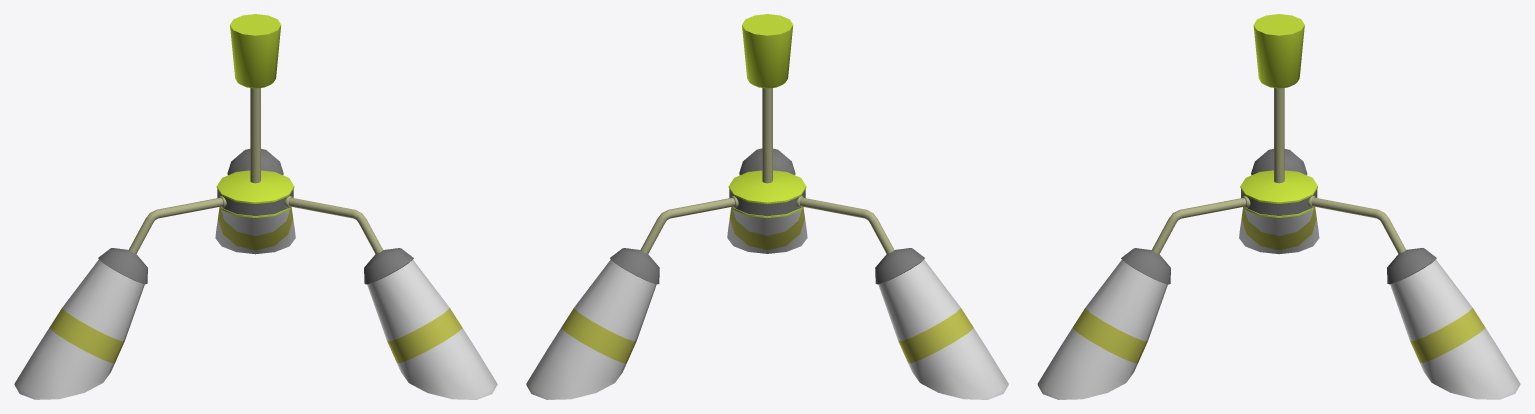
File: Chandelier.fbx
3 renders of one model, left to right at view 1: azimuth 30°, elevation 25°; view 2: azimuth 150°, elevation 25°; view 3: azimuth 270°, elevation 25°, orthographic.
Visible parts, largest first — view 1: Cylinder.005; view 2: Cylinder.005; view 3: Cylinder.005.
Boxes of the visible parts, bbox=[...] form: Cylinder.005: bbox=[14, 14, 497, 399]; Cylinder.005: bbox=[526, 14, 1008, 399]; Cylinder.005: bbox=[1037, 14, 1520, 399].
Size of the model in its own units: 62.5 by 50.27 by 70.67.
